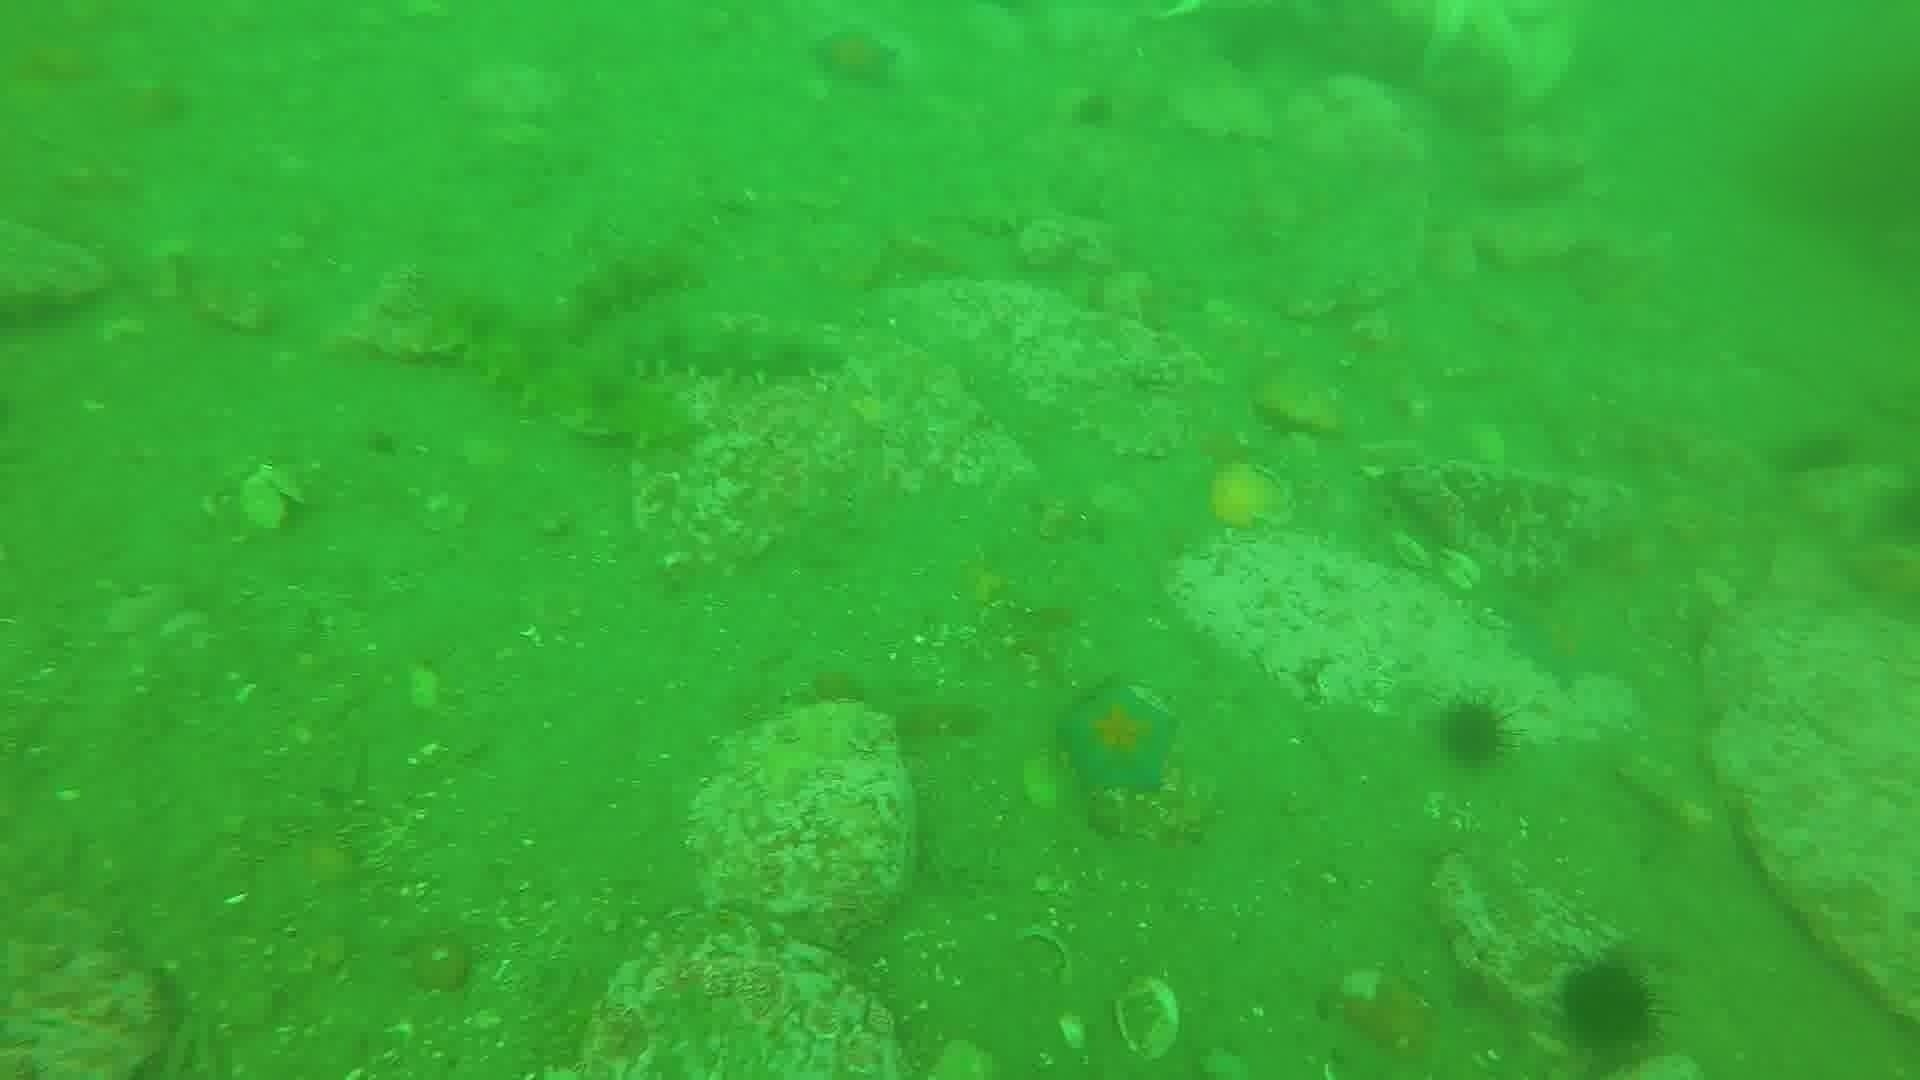echinus: (1551, 952, 1669, 1065), (1429, 694, 1518, 774)
holothurian: (392, 276, 702, 456), (585, 309, 847, 396), (564, 240, 705, 328)
starfish: (1051, 680, 1184, 799), (1499, 592, 1626, 692), (804, 22, 905, 94)
